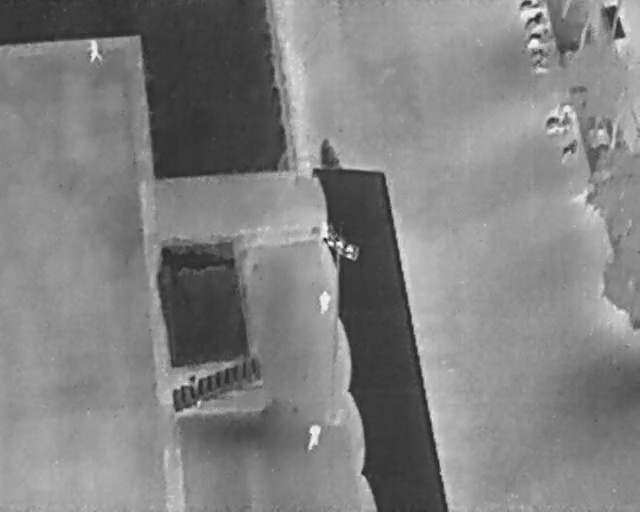Bicycle: (552, 136, 582, 167), (519, 7, 548, 32), (545, 113, 572, 135), (528, 42, 553, 63), (524, 26, 550, 46), (530, 60, 551, 75), (519, 0, 539, 12)
Person: (88, 38, 104, 63), (318, 288, 332, 315), (308, 421, 321, 450)
